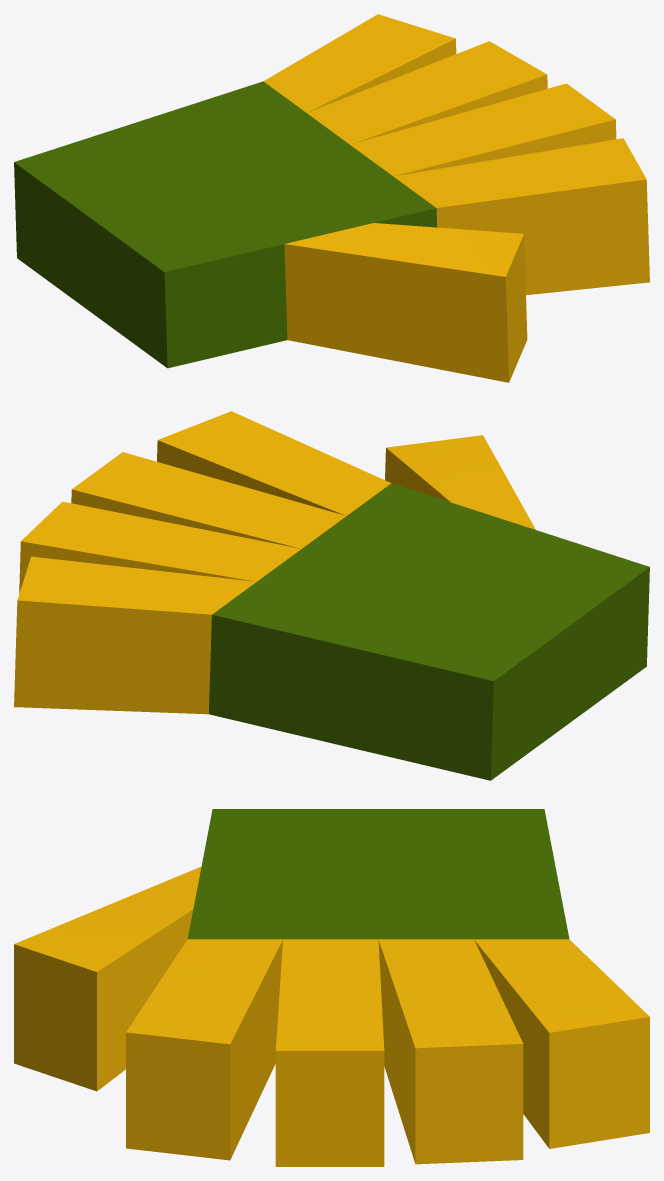
File: BossHandL.fbx
3 views of the same model, one above another, from view 1: azimuth 30°, elevation 25°; view 2: azimuth 150°, elevation 25°; view 3: azimuth 270°, elevation 25° (orthographic). The views are drawn at different scales.
Visible parts, largest first — view 1: polySurface118; view 2: polySurface118; view 3: polySurface118.
Boxes of the visible parts, x1,y1,x2,y2 form: polySurface118: (14,14,649,382); polySurface118: (14,411,649,780); polySurface118: (14,809,649,1166).
Size of the model in its own units: 0.0169 by 0.00407 by 0.0175.
Materials: 3 (3 with a texture image).
